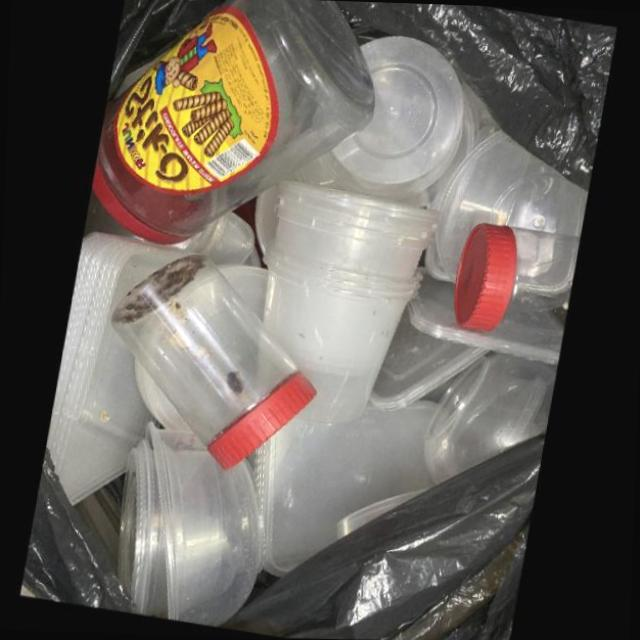hop_nhua: (91, 0, 375, 246), (110, 255, 317, 472), (261, 181, 438, 425), (46, 233, 181, 506), (118, 422, 262, 628), (318, 37, 464, 202), (421, 357, 556, 484), (453, 224, 580, 346)
